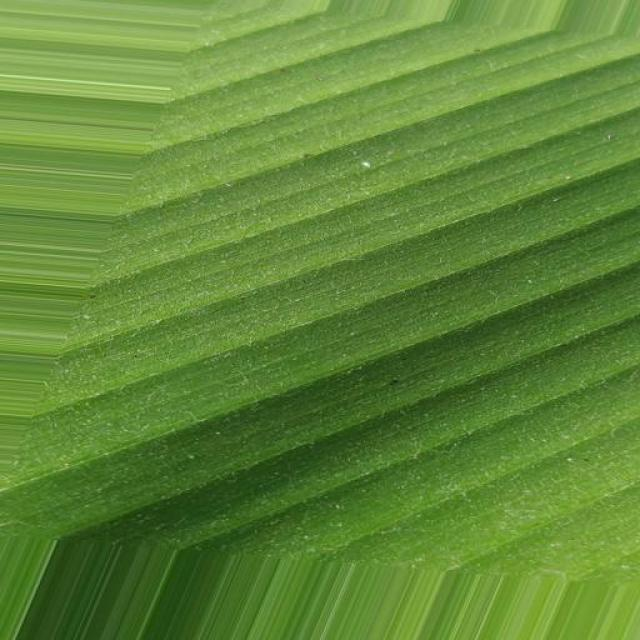Black_leaf_spot: (49, 13, 640, 610)
